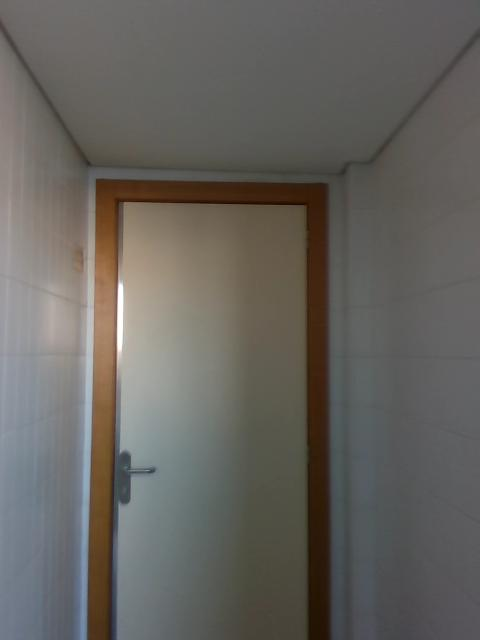door: (119, 202, 310, 637)
